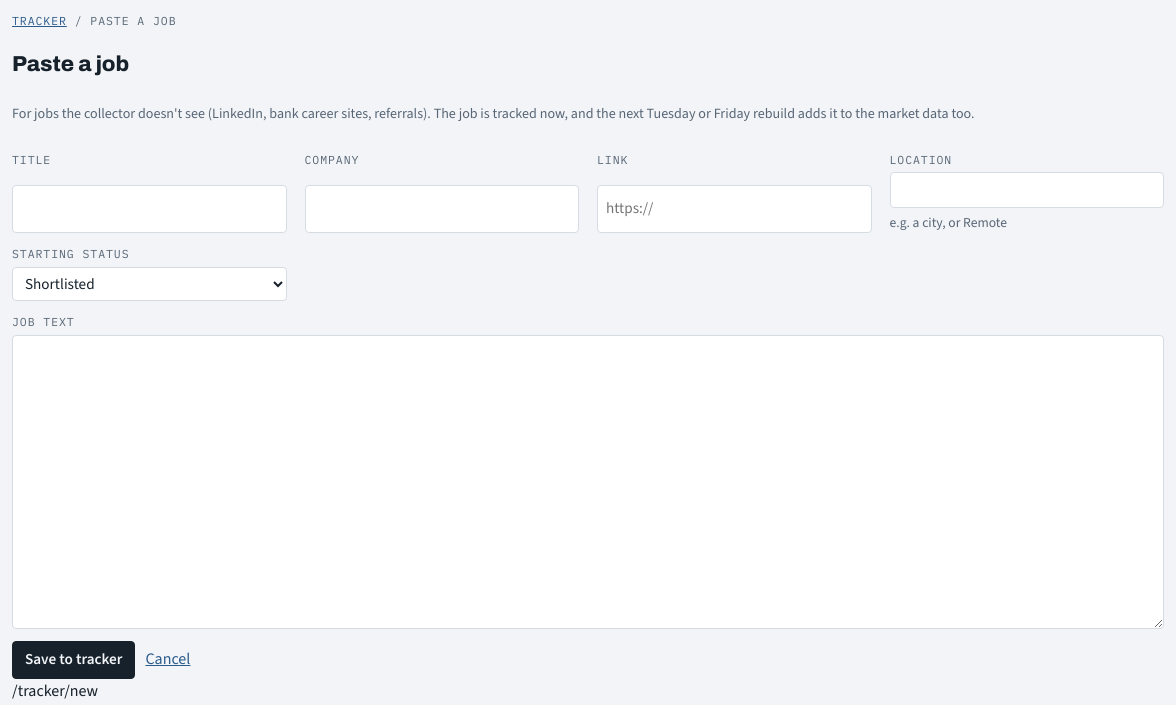
Test: Paste a job › checks the fields before sending anything
Step 1. Type "www.rbc.com/job" into the field labelled "Link" → (734, 209), box [597,185,872,233]
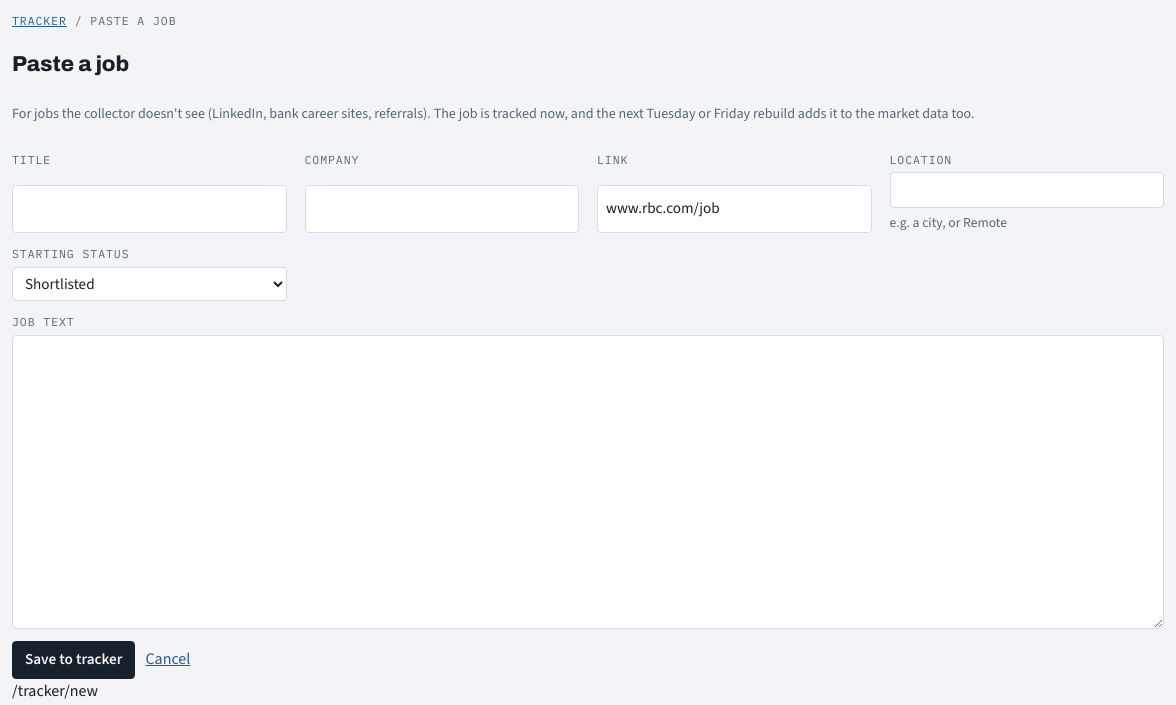
Step 2. Click the button "Save to tracker" → (74, 660), box [12,641,136,679]
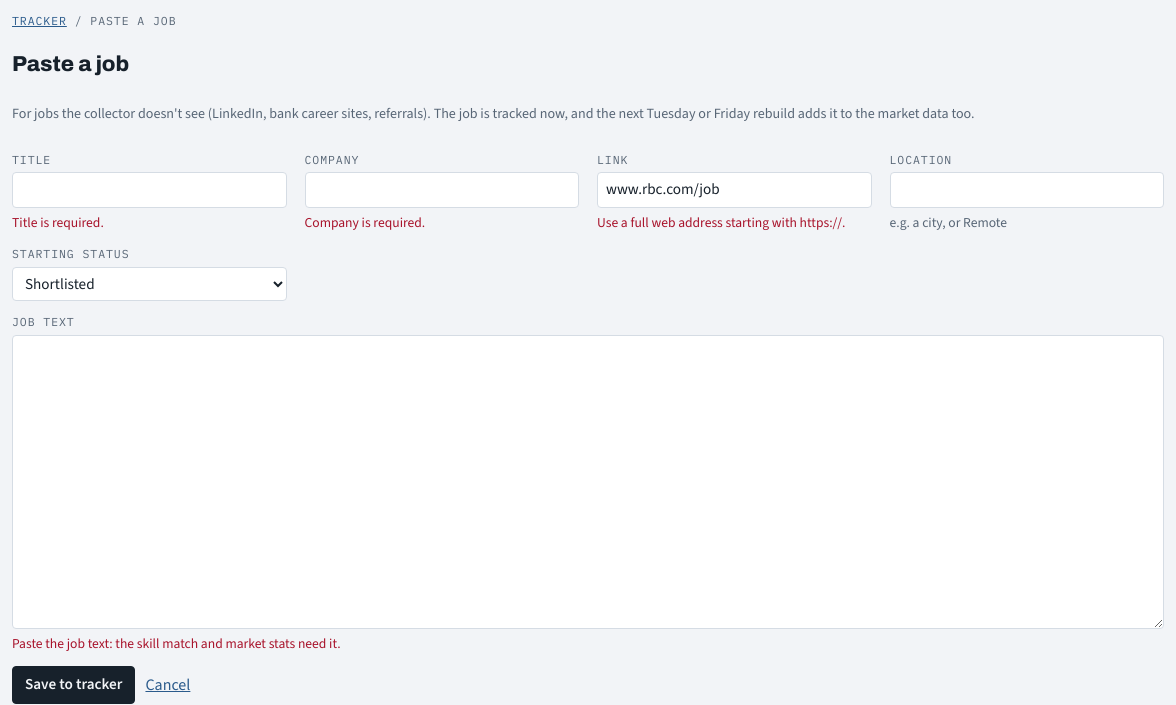
Expected: the text "Title is required." is shown, [12,213,104,231]
Expected: the text "Company is required." is shown, [304,213,425,231]
Expected: the text "Paste the job text" is shown, [12,634,340,652]
